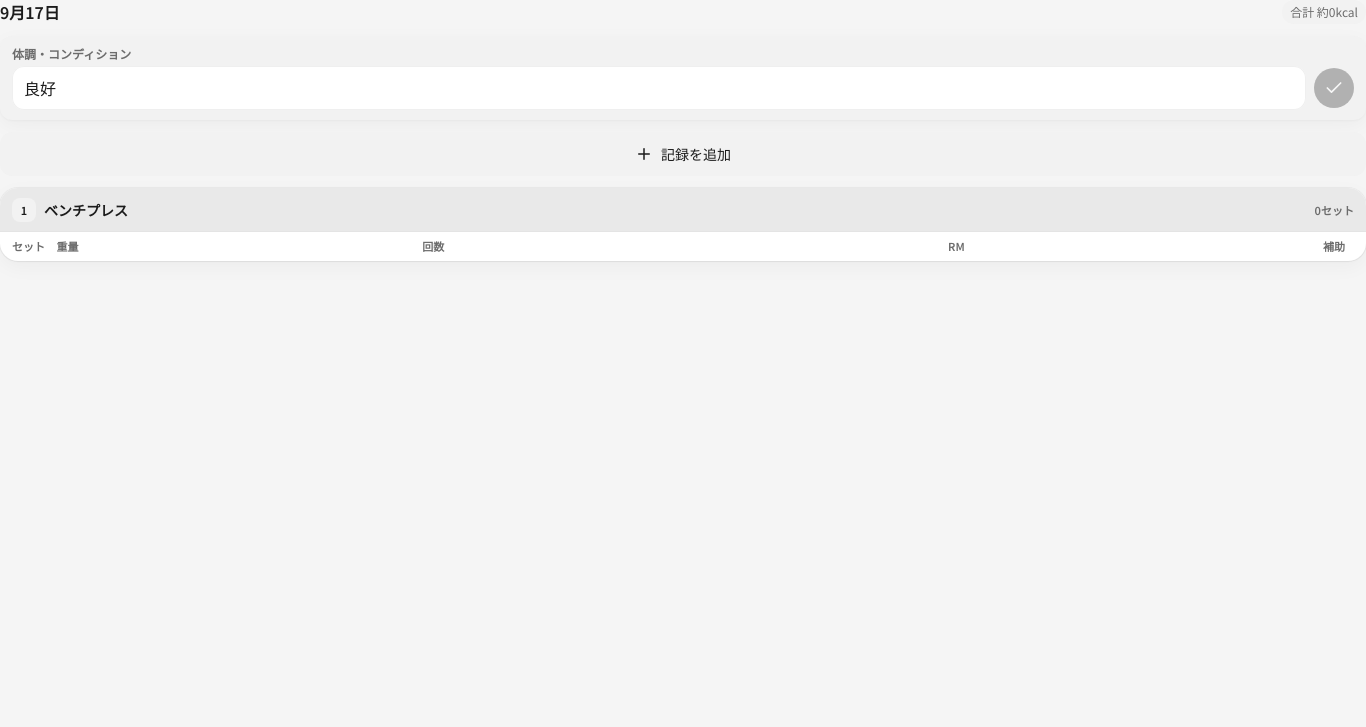
it: inline workout creation › keeps an entered draft when saving fails
Check: the heading "1 ベンチプレス" is shown, box [12, 198, 128, 222]
Click the button "記録を追加" at (683, 154), box [0, 132, 1365, 176]
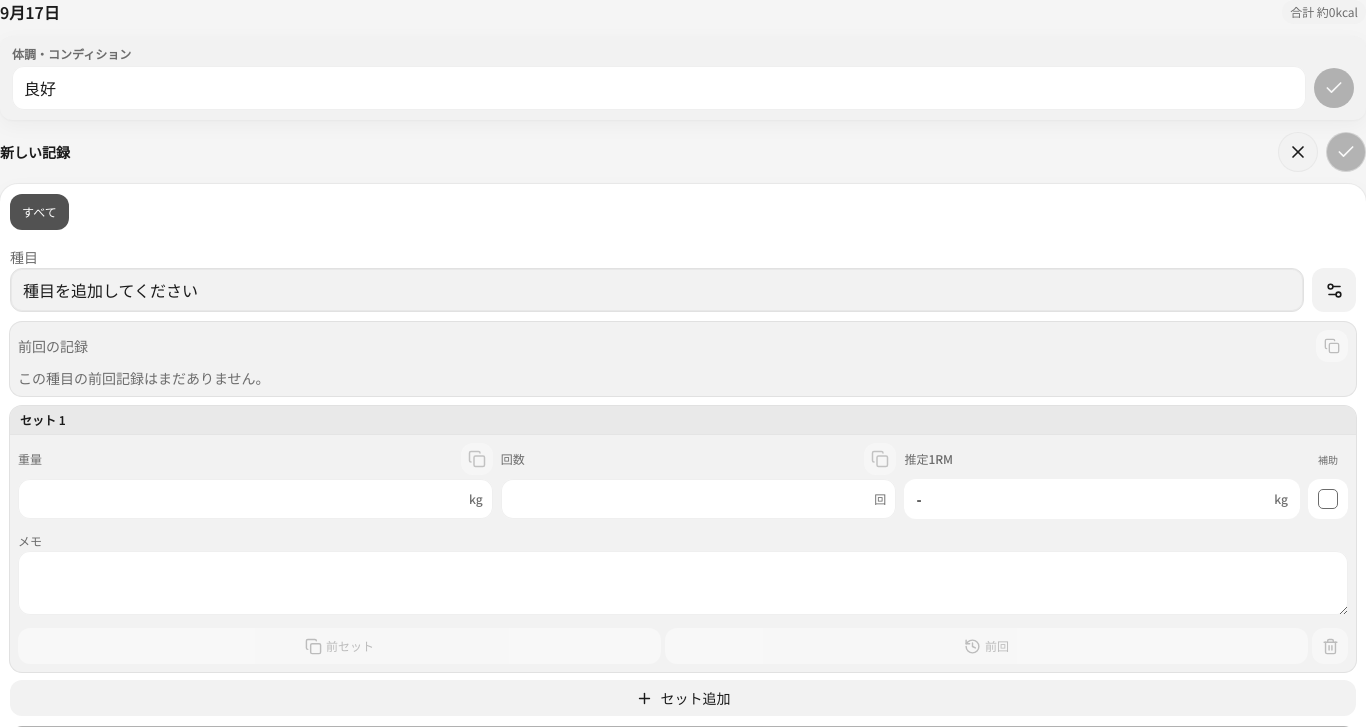
Select "ベンチプレス" in the dropdown at (657, 290), box [10, 268, 1304, 312]
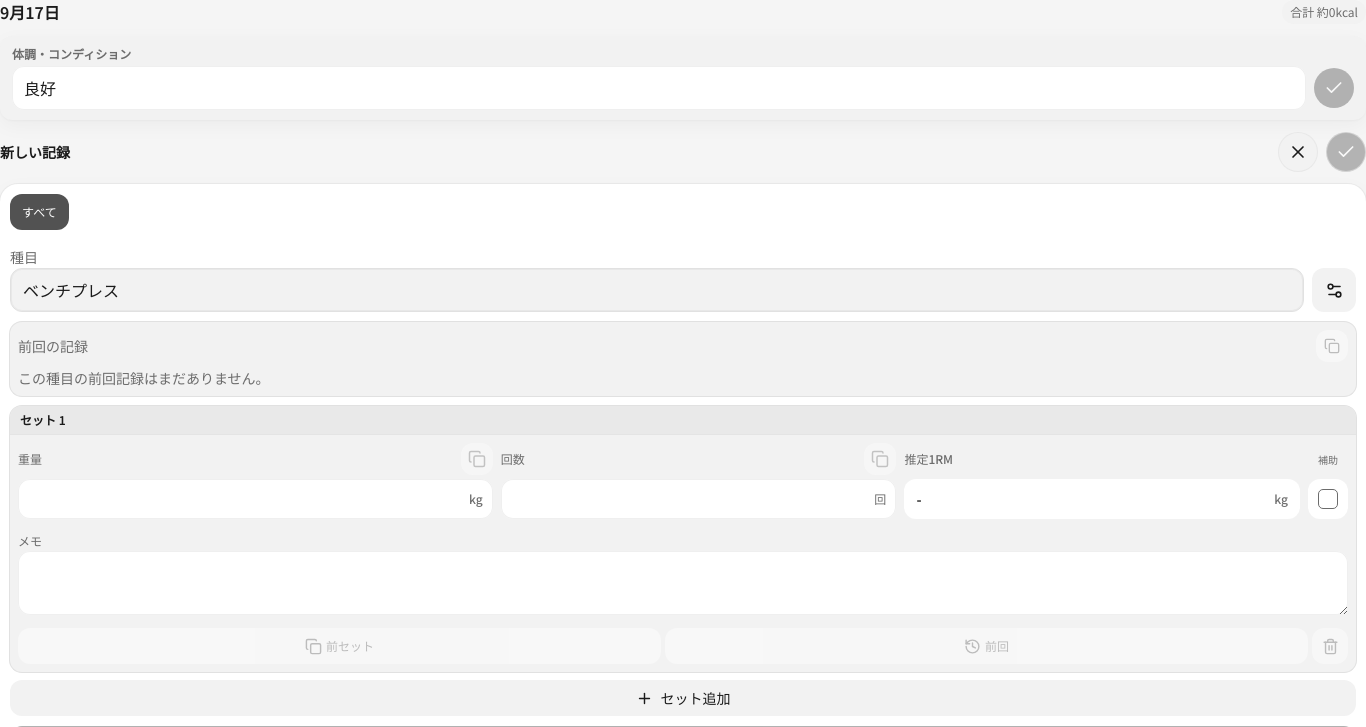
Type "20" into the field named "セット1の重量" at (255, 499), box [18, 479, 493, 519]
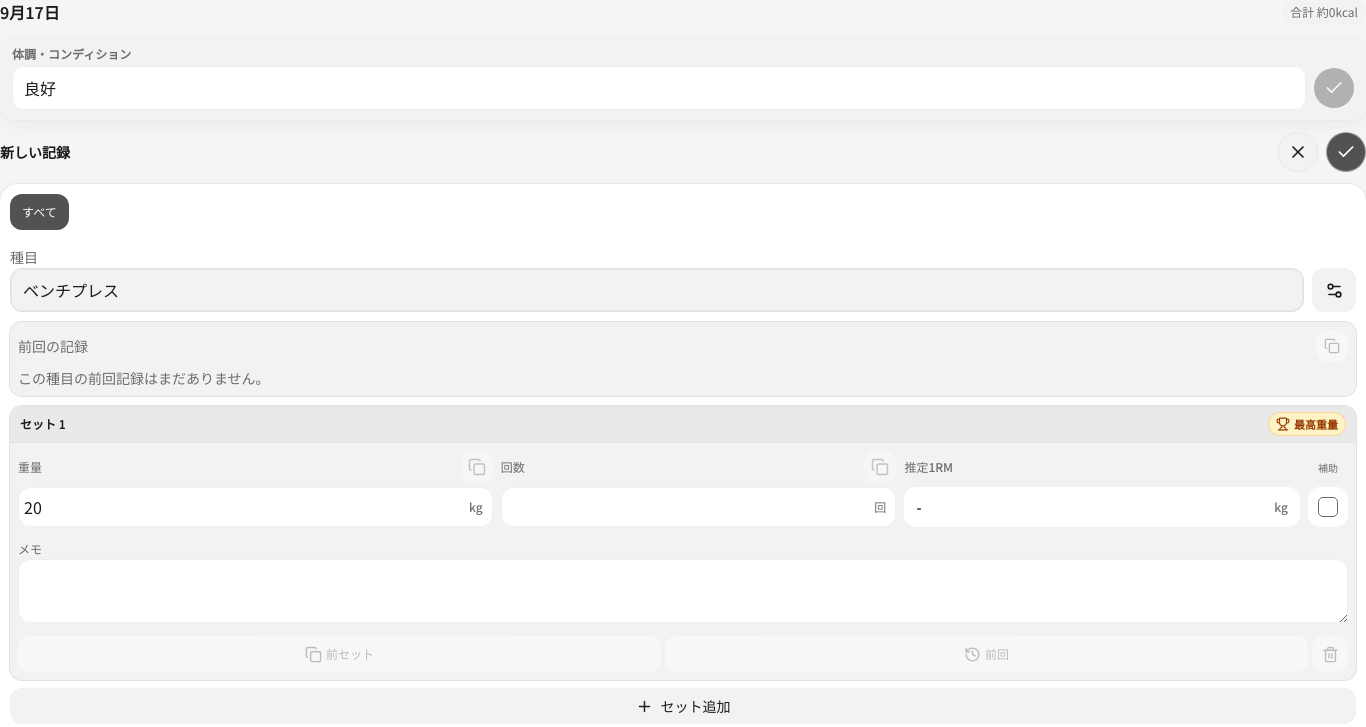
Type "10" into the field named "セット1の回数" at (699, 507), box [501, 487, 896, 527]
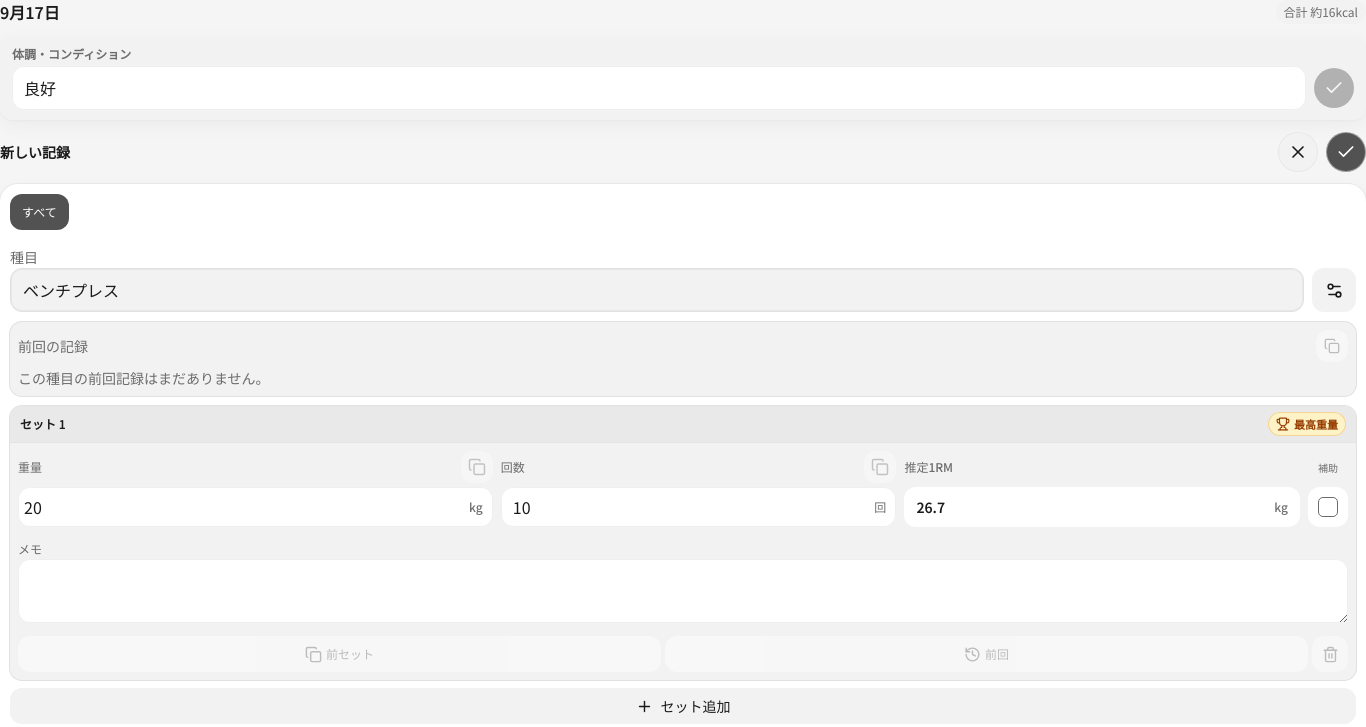
Click the button named "記録を保存" at (1346, 152), box [1326, 132, 1365, 172]
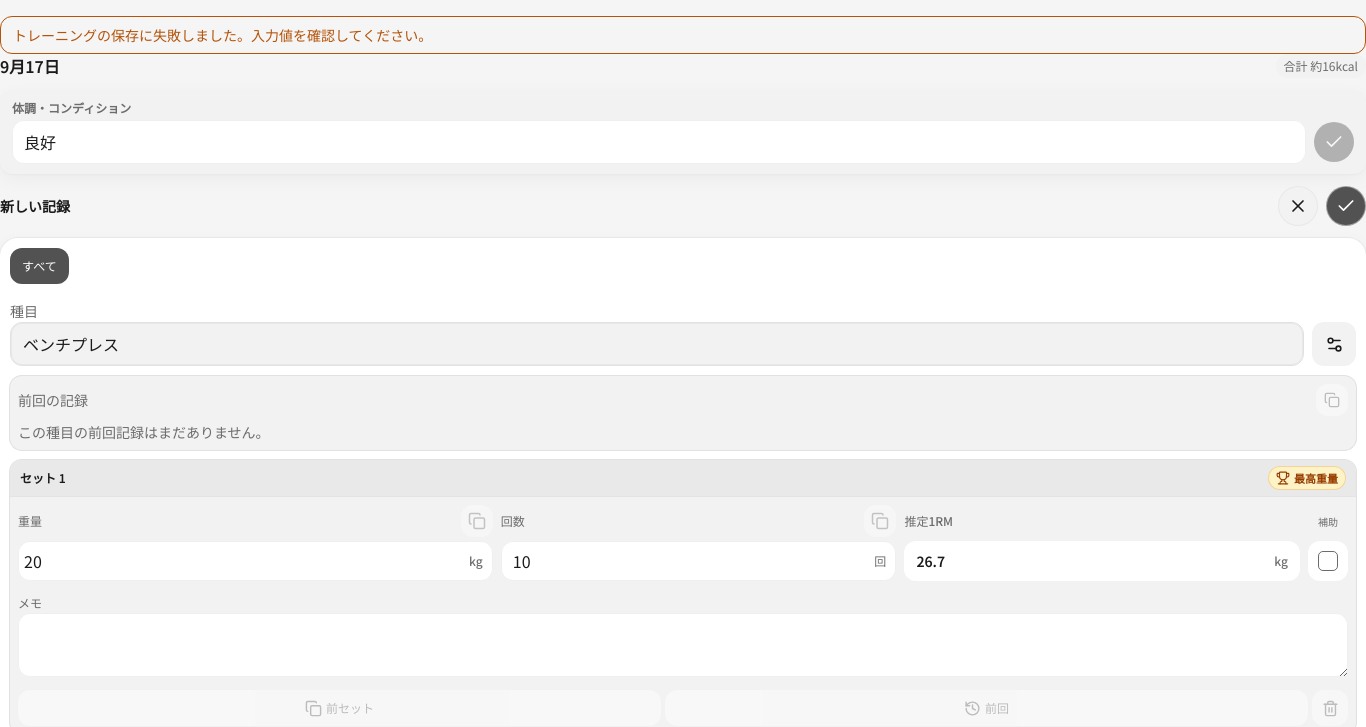
Check: the text "トレーニングの保存に失敗しました。入力値を確認してください。" is shown, box [0, 16, 1365, 54]
